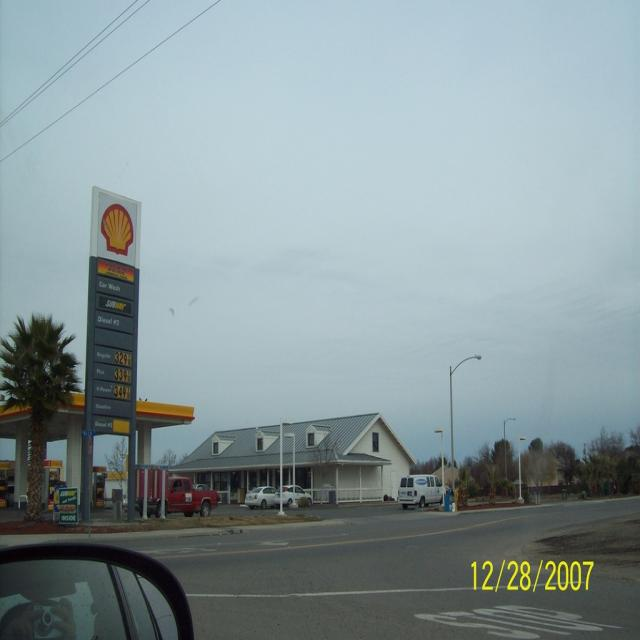shell: (100, 205, 135, 256)
